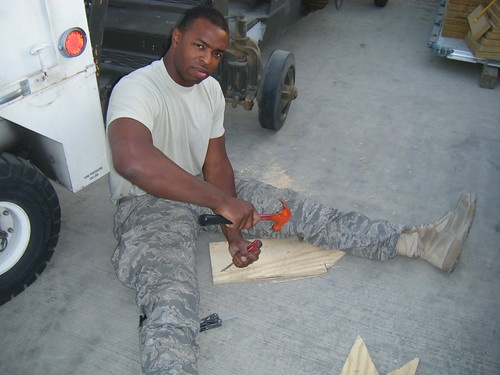hammer: (198, 198, 294, 233)
